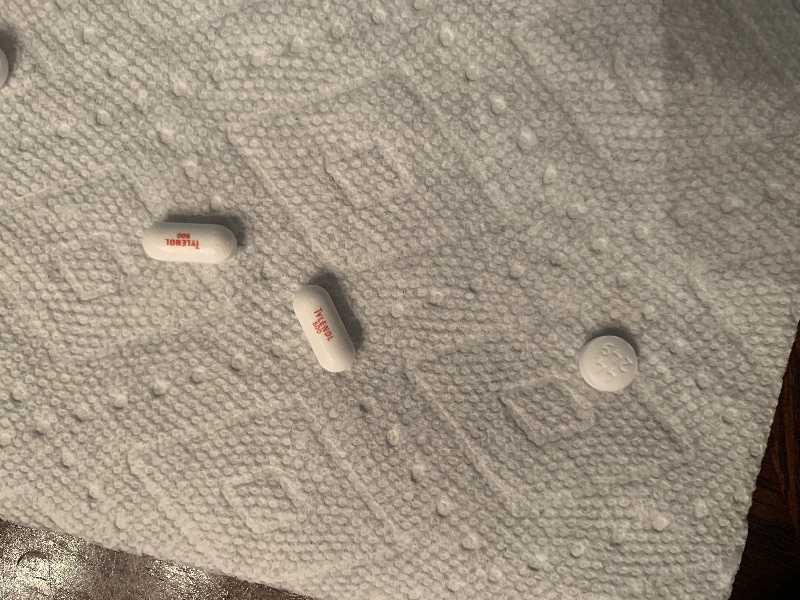Aspirin: (572, 330, 643, 395)
Tylenol: (291, 284, 360, 376), (139, 219, 243, 266)
